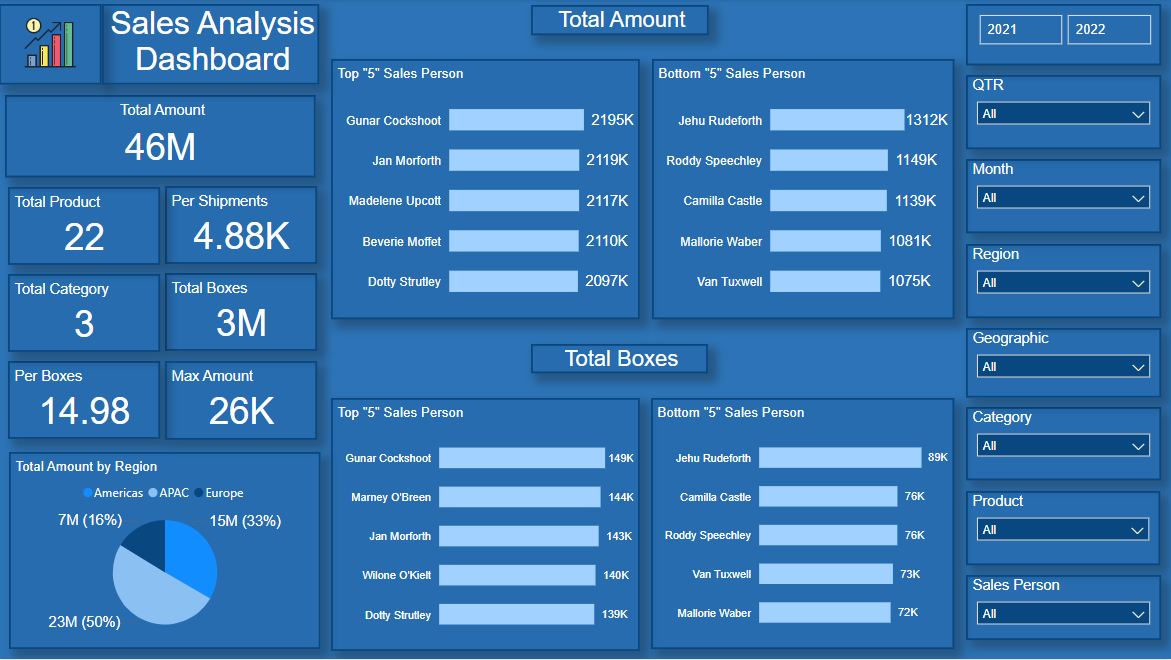

The page's visual inventory and layout, read from the dashboard file:
{"tool":"powerbi","page":{"name":"Page 1","canvas":[1280,720],"ordinal":0},"visuals":[{"type":"card","title":"Total Amount","fields":{"Values":["sales.Total Amount"]},"box":[6.5,104.5,339.4,90.3],"z":0},{"type":"pivotTable","fields":{"Rows":["locations.Geo"],"Values":["sales.Total Amount","sales.Total Boxes","sales.Shipment Count","sales.Amount per shipment","sales.Amount Per Boxes","sales.APB 2"]},"box":[10.9,486.2,727,234.6],"z":1000},{"type":"card","title":"Total Boxes","fields":{"Values":["sales.Total Boxes"]},"box":[180.6,299.4,166.5,85.2],"z":2000},{"type":"slicer","title":"Region","fields":{"Values":["locations.Region"]},"box":[1055.5,266.9,212.9,81.3],"z":3000},{"type":"slicer","title":"Category","fields":{"Values":["products.Category"]},"box":[1055.5,445.7,212.9,80],"z":4000},{"type":"card","title":"Per Shipments","fields":{"Values":["sales.Amount per shipment"]},"box":[180.6,203.9,166.5,85.2],"z":5000},{"type":"card","title":"Per Boxes","fields":{"Values":["sales.Amount Per Boxes"]},"box":[10.3,394.8,166.5,85.2],"z":6000},{"type":"image","box":[0,5.2,112.3,87.7],"z":6001},{"type":"slicer","title":"Geographic","fields":{"Values":["locations.Geo"]},"box":[1055.5,358.9,212.9,76.1],"z":6002},{"type":"slicer","fields":{"Values":["calendar.Date.Variation.Date Hierarchy.Year"]},"box":[1055.5,5.2,212.9,67.1],"z":6003},{"type":"slicer","title":"Product","fields":{"Values":["sales.Product"]},"box":[1055.5,536.4,211.6,81.3],"z":6004},{"type":"slicer","title":"Sales Person","fields":{"Values":["sales.Sales Person"]},"box":[1055.5,628.4,212.9,71],"z":6005},{"type":"slicer","title":"Month","fields":{"Values":["calendar.Date.Variation.Date Hierarchy.Month"]},"box":[1055.5,174.9,212.9,81.3],"z":6006},{"type":"slicer","title":"QTR","fields":{"Values":["calendar.Date.Variation.Date Hierarchy.Quarter"]},"box":[1055.5,82.9,212.9,81.3],"z":6007},{"type":"actionButton","title":"Sales Analysis Dashboard","box":[112.3,5.2,237.4,87.7],"z":6008},{"type":"card","title":"Total Product","fields":{"Values":["Count(sales.Product)"]},"box":[10.3,204.7,166.5,85.2],"z":6009},{"type":"card","title":"Total Category","fields":{"Values":["Count(products.Category)"]},"box":[10.3,299.8,166.5,85.2],"z":6010},{"type":"card","title":"Max Amount","fields":{"Values":["Max(sales.Amount)"]},"box":[180.6,394.8,166.5,86.5],"z":6011},{"type":"pieChart","title":"Total Amount by Country","fields":{"Category":["locations.Geo"],"Y":["sales.Total Amount"]},"box":[360,10.3,349.7,246.5],"z":6012},{"type":"barChart","fields":{"Category":["calendar.Date.Variation.Date Hierarchy.Quarter"],"Y":["sales.Total Amount"]},"box":[720.2,9.8,319.7,246.6],"z":6013},{"type":"barChart","fields":{"Category":["calendar.Date.Variation.Date Hierarchy.Month"],"Y":["sales.Total Amount"]},"box":[750.8,267.3,289.2,452.9],"z":6014},{"type":"columnChart","fields":{"Category":["calendar.Date.Variation.Date Hierarchy.Day"],"Y":["sales.Total Amount"]},"box":[372.9,267.1,363.9,212.9],"z":6015}]}

Visuals, with their boxes in screenshot pixels (x1, y1, x2, y2), scaled from the page's 1280x720 canvas onto the 1171x660 screenshot:
"Total Amount" card: left=6, top=96, right=316, bottom=179
pivotTable - locations.Geo x sales.Total Amount: left=10, top=446, right=675, bottom=659
"Total Boxes" card: left=165, top=274, right=318, bottom=353
"Region" slicer: left=966, top=245, right=1160, bottom=319
"Category" slicer: left=966, top=409, right=1160, bottom=482
"Per Shipments" card: left=165, top=187, right=318, bottom=265
"Per Boxes" card: left=9, top=362, right=162, bottom=440
image: left=0, top=5, right=103, bottom=85
"Geographic" slicer: left=966, top=329, right=1160, bottom=399
slicer - calendar.Date.Variation.Date Hierarchy.Year: left=966, top=5, right=1160, bottom=66
"Product" slicer: left=966, top=492, right=1159, bottom=566
"Sales Person" slicer: left=966, top=576, right=1160, bottom=641
"Month" slicer: left=966, top=160, right=1160, bottom=235
"QTR" slicer: left=966, top=76, right=1160, bottom=151
"Sales Analysis Dashboard" actionButton: left=103, top=5, right=320, bottom=85
"Total Product" card: left=9, top=188, right=162, bottom=266
"Total Category" card: left=9, top=275, right=162, bottom=353
"Max Amount" card: left=165, top=362, right=318, bottom=441
"Total Amount by Country" pieChart: left=329, top=9, right=649, bottom=235
barChart - calendar.Date.Variation.Date Hierarchy.Quarter x sales.Total Amount: left=659, top=9, right=951, bottom=235
barChart - calendar.Date.Variation.Date Hierarchy.Month x sales.Total Amount: left=687, top=245, right=951, bottom=659
columnChart - calendar.Date.Variation.Date Hierarchy.Day x sales.Total Amount: left=341, top=245, right=674, bottom=440
